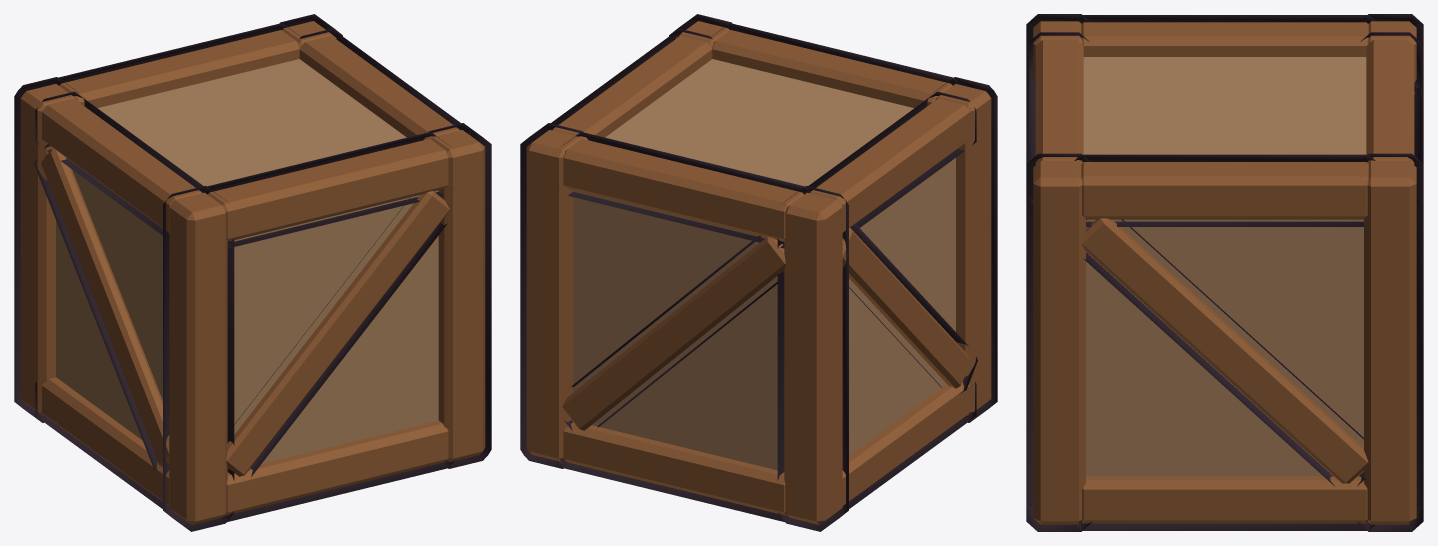
Rendered from SM_Island_Crate.fbx.
The picture shows the model from 3 angles, left to right: view 1: azimuth 30°, elevation 25°; view 2: azimuth 150°, elevation 25°; view 3: azimuth 270°, elevation 25°; orthographic projection. The views are drawn at different scales.
Visible parts, largest first — view 1: SM_Island_Crate, SM_Island_Crate_Outline; view 2: SM_Island_Crate, SM_Island_Crate_Outline; view 3: SM_Island_Crate, SM_Island_Crate_Outline.
Boxes of the visible parts, <box> form: SM_Island_Crate: <box>20,21,485,524</box>; SM_Island_Crate_Outline: <box>14,14,491,531</box>; SM_Island_Crate: <box>526,21,991,524</box>; SM_Island_Crate_Outline: <box>520,14,997,531</box>; SM_Island_Crate: <box>1033,21,1416,524</box>; SM_Island_Crate_Outline: <box>1026,14,1423,531</box>.
Bounding box in the file's own units: 0.8285 × 0.8285 × 0.8285.
2 materials, 1 textured.
